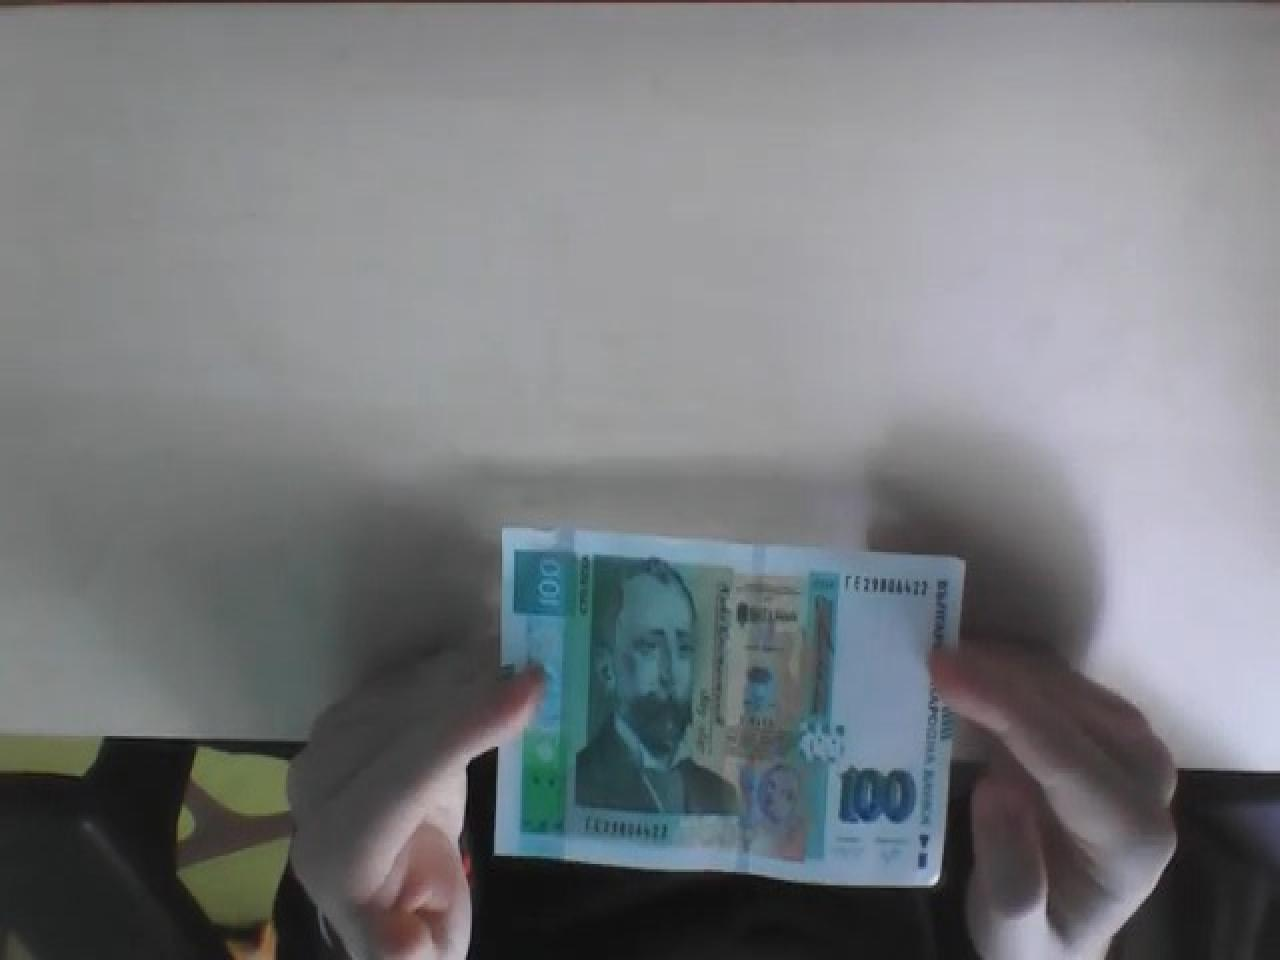100leva: (494, 522, 968, 890)
